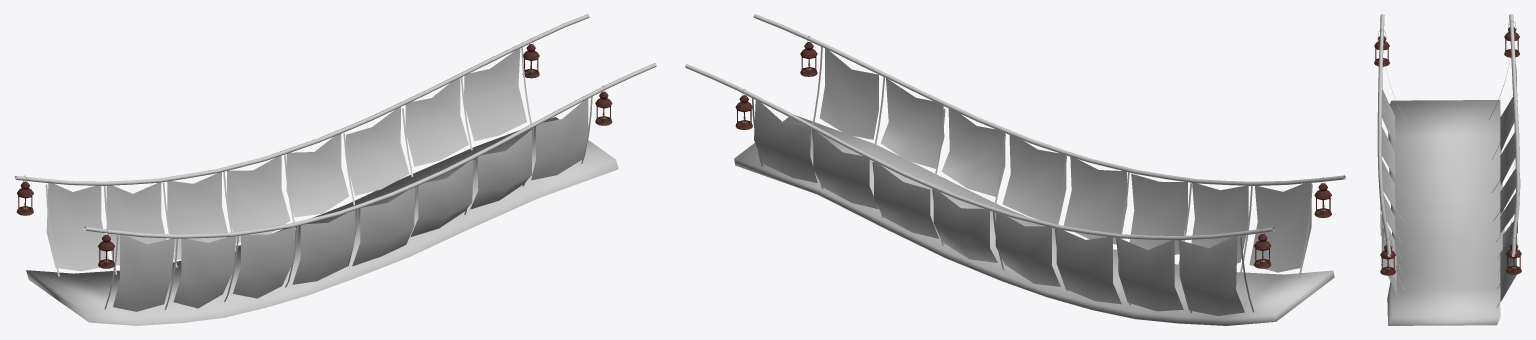
File: rope_bridge.obj
3 renders of one model, left to right at view 1: azimuth 30°, elevation 25°; view 2: azimuth 150°, elevation 25°; view 3: azimuth 270°, elevation 25°, orthographic. The views are drawn at different scales.
Visible parts, largest first — view 1: defaultMaterial; view 2: defaultMaterial; view 3: defaultMaterial, defaultMaterial_4, defaultMaterial_1, defaultMaterial_2, defaultMaterial_3.
Boxes of the visible parts, <box> form: defaultMaterial: <box>14,14,656,325</box>; defaultMaterial: <box>685,14,1345,325</box>; defaultMaterial: <box>1377,14,1520,325</box>; defaultMaterial_4: <box>1380,238,1395,275</box>; defaultMaterial_1: <box>1506,237,1521,274</box>; defaultMaterial_2: <box>1374,29,1389,66</box>; defaultMaterial_3: <box>1504,20,1519,57</box>.
Bounding box in the file's own units: 2 × 0.5016 × 0.4809.
